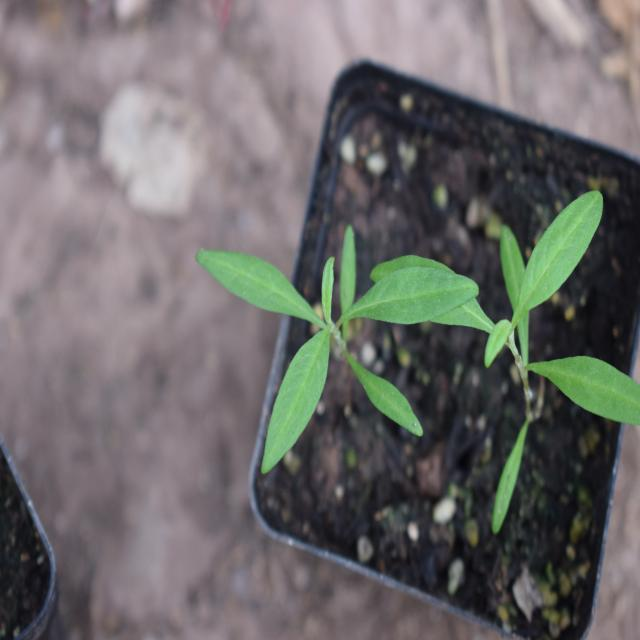white_smart_weed: (197, 220, 476, 499), (468, 189, 640, 453)
